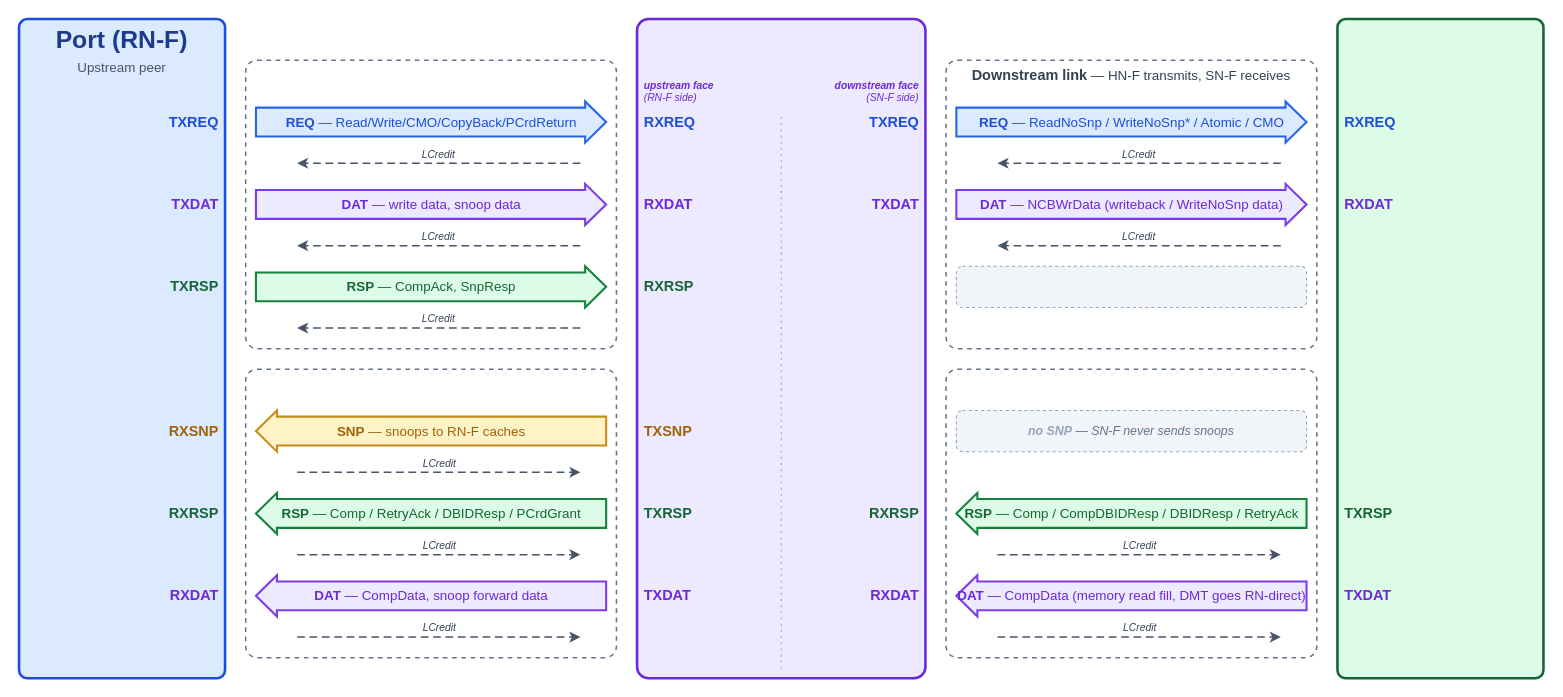
The diagram is 1563 pixels wide and 697 high, and some of its shapes have lost their labels. Here are the shapes that lost their labels. From the top down, the box of each, then its label:
(244, 59, 617, 349): Upstream link — RN-F transmits, HN-F receives
(955, 265, 1307, 307): no SNP — SN-F is never snooped
(635, 17, 926, 679): Port (HN-F) Home Node — PoC + PoS, inside ICN
(1336, 17, 1544, 679): Port (SN-F) Downstream subordinate
(244, 368, 617, 658): Upstream link — HN-F transmits, RN-F receives
(945, 368, 1317, 658): Downstream link — SN-F transmits, HN-F receives
